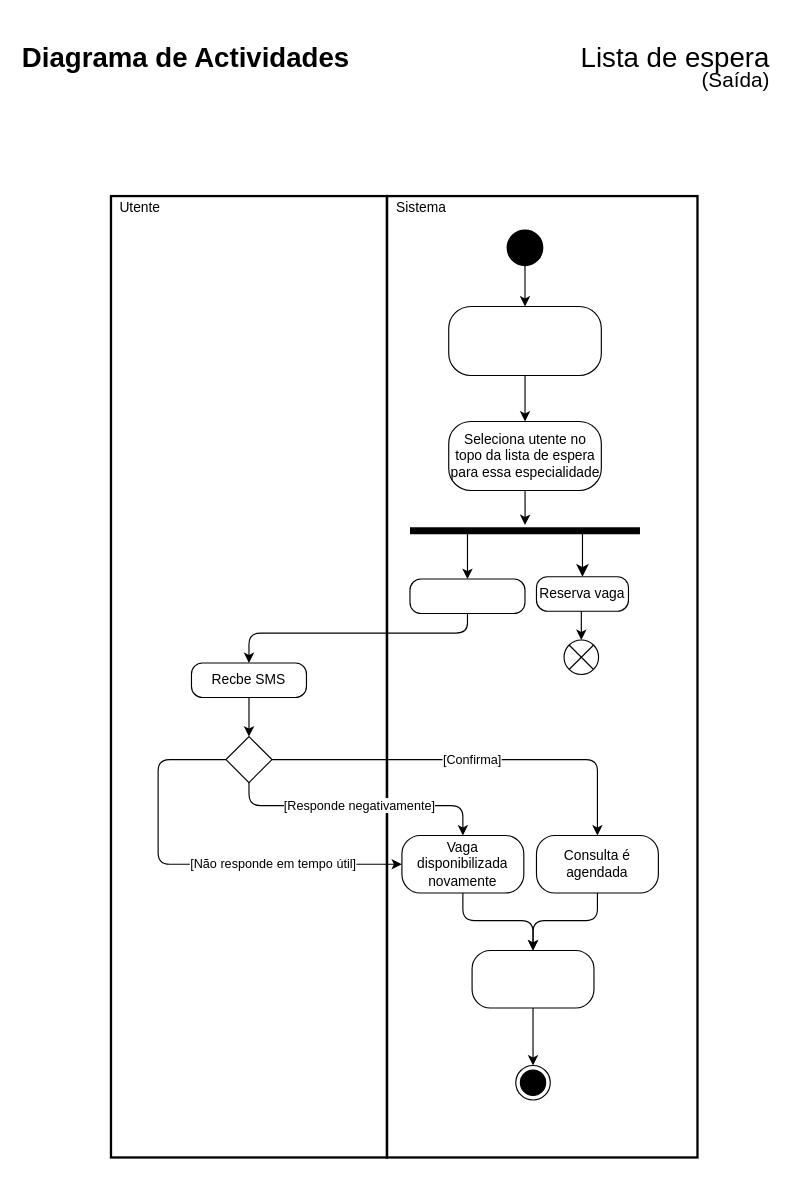
Image size: 791x1178. Some labels were removed from this diagram. The shapes that lost their labels are listed below. From the top down, each one's centre as x and y in pixels, then its label:
At point 524,340: "Abrem disponibilidades para a especialidade necessária".
At point 467,596: "Envia SMS".
At point 532,978: "Utente removido da lista de espera".
